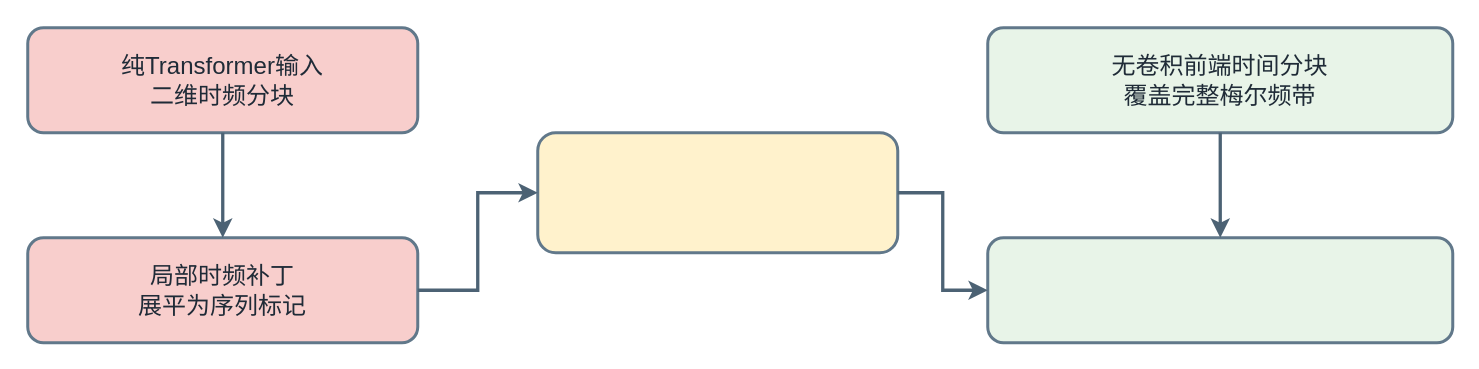
This 1479x369 diagram has some shape labels left out. Here are the shapes that lost their labels. From the top down, the centre of each, then its label:
At (717,192): "对比维度 频带完整性 时间片段组织 编码路径".
At (1220,290): "短时间片段标记 保留整体频带结构".
